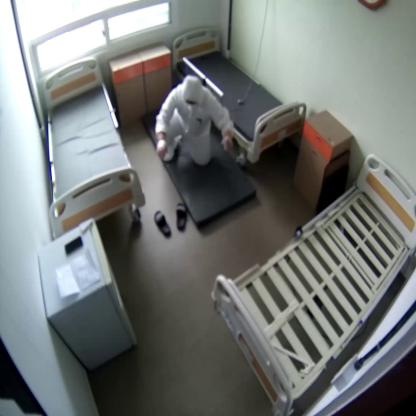Bed: (171, 26, 307, 164)
Person: (155, 74, 233, 164)
